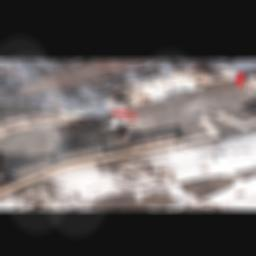Woodpecker: (33, 103, 164, 158)
